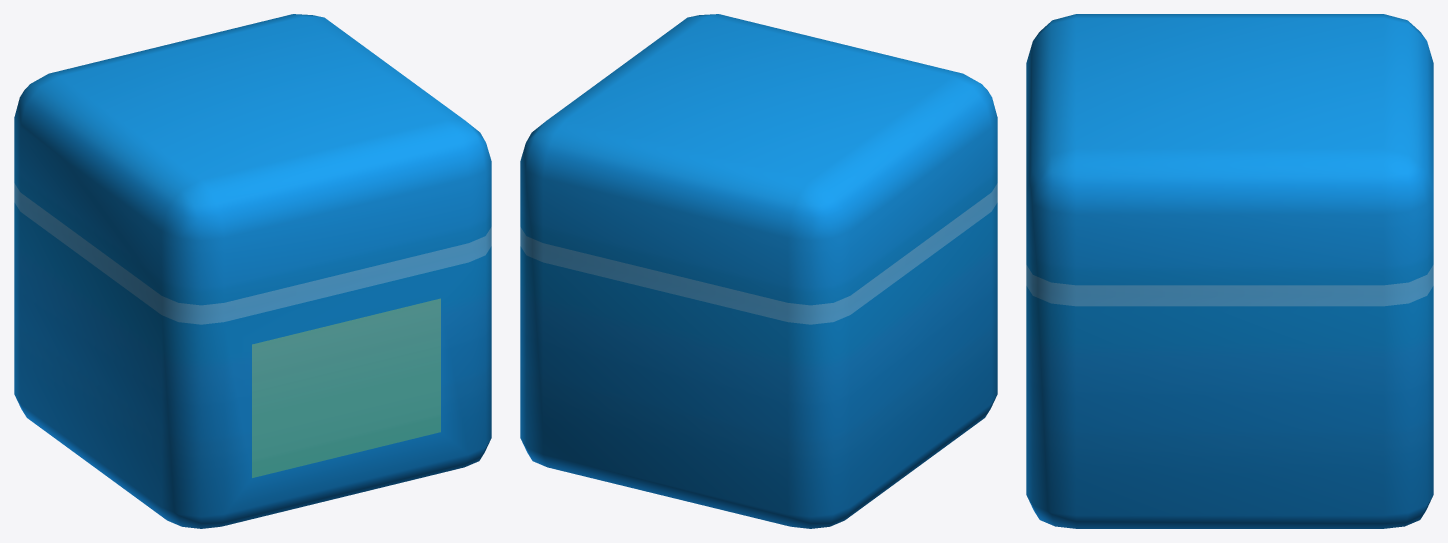
Rendered from Cream_03.glb.
3 renders of one model, left to right at view 1: azimuth 30°, elevation 25°; view 2: azimuth 150°, elevation 25°; view 3: azimuth 270°, elevation 25°, orthographic. The views are drawn at different scales.
Parts seen in each view (by area): view 1: Cream_03; view 2: Cream_03; view 3: Cream_03.
Part boxes in pixels (x1,y1,x2,y2): Cream_03: (14, 14, 491, 528); Cream_03: (520, 14, 997, 528); Cream_03: (1026, 14, 1433, 528).
Bounding box in the file's own units: 0.1 × 0.1 × 0.1.
1 material, 1 textured.
